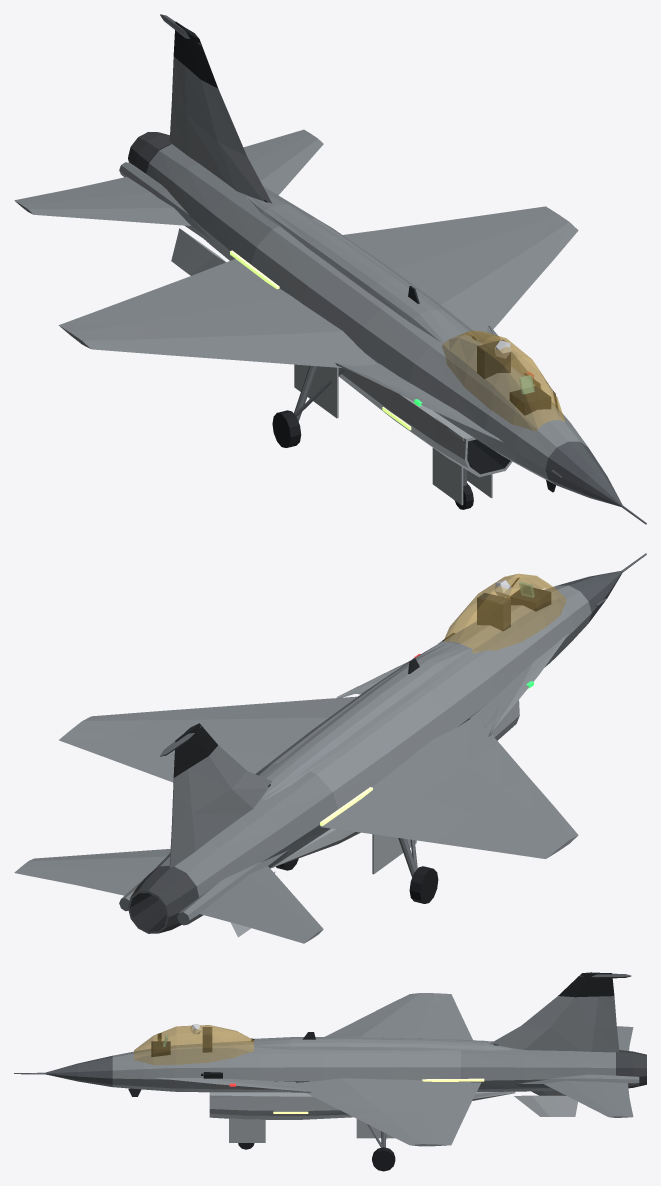
3 renders of one model, top to bottom at view 1: azimuth 30°, elevation 25°; view 2: azimuth 150°, elevation 25°; view 3: azimuth 270°, elevation 25°, orthographic. The views are drawn at different scales.
Visible parts, largest first — view 1: part-0002, part-0015, part-0016, part-0001, part-0038, part-0003, part-0004, part-0017, part-0018, part-0025, part-0021, part-0008 (+14 smaller); view 2: part-0002, part-0015, part-0003, part-0004, part-0017, part-0016, part-0038, part-0018, part-0025, part-0021, part-0022, part-0001 (+12 smaller); view 3: part-0002, part-0016, part-0003, part-0001, part-0025, part-0038, part-0008, part-0004, part-0018, part-0017, part-0015, part-0022 (+12 smaller).
Part boxes in pixels (<box>): part-0002: <box>251,218,521,424</box>; part-0015: <box>146,259,377,367</box>; part-0016: <box>343,222,527,336</box>; part-0001: <box>450,367,587,484</box>; part-0038: <box>442,330,565,430</box>; part-0003: <box>146,144,316,264</box>; part-0004: <box>245,195,472,342</box>; part-0017: <box>58,293,237,360</box>; part-0018: <box>436,206,578,289</box>; part-0025: <box>184,66,271,203</box>; part-0021: <box>14,177,190,225</box>; part-0008: <box>338,367,477,476</box>; part-0002: <box>257,625,528,809</box>; part-0015: <box>320,719,527,843</box>; part-0003: <box>152,763,337,896</box>; part-0004: <box>262,641,472,800</box>; part-0017: <box>436,776,578,858</box>; part-0016: <box>146,696,357,782</box>; part-0038: <box>443,573,566,653</box>; part-0018: <box>59,705,237,772</box>; part-0025: <box>188,745,271,850</box>; part-0021: <box>200,866,323,943</box>; part-0022: <box>14,849,170,895</box>; part-0001: <box>470,585,591,666</box>; part-0002: <box>213,1039,460,1092</box>; part-0016: <box>296,1078,481,1114</box>; part-0003: <box>461,1039,615,1091</box>; part-0001: <box>112,1043,213,1092</box>; part-0025: <box>490,996,598,1051</box>; part-0038: <box>134,1025,253,1065</box>; part-0008: <box>209,1091,515,1119</box>; part-0004: <box>254,1037,511,1050</box>; part-0018: <box>349,1111,465,1146</box>; part-0017: <box>349,993,465,1024</box>; part-0015: <box>325,1021,472,1040</box>; part-0022: <box>544,1080,633,1117</box>.
Size of the model in its own units: 9.24 by 5 by 16.35.
